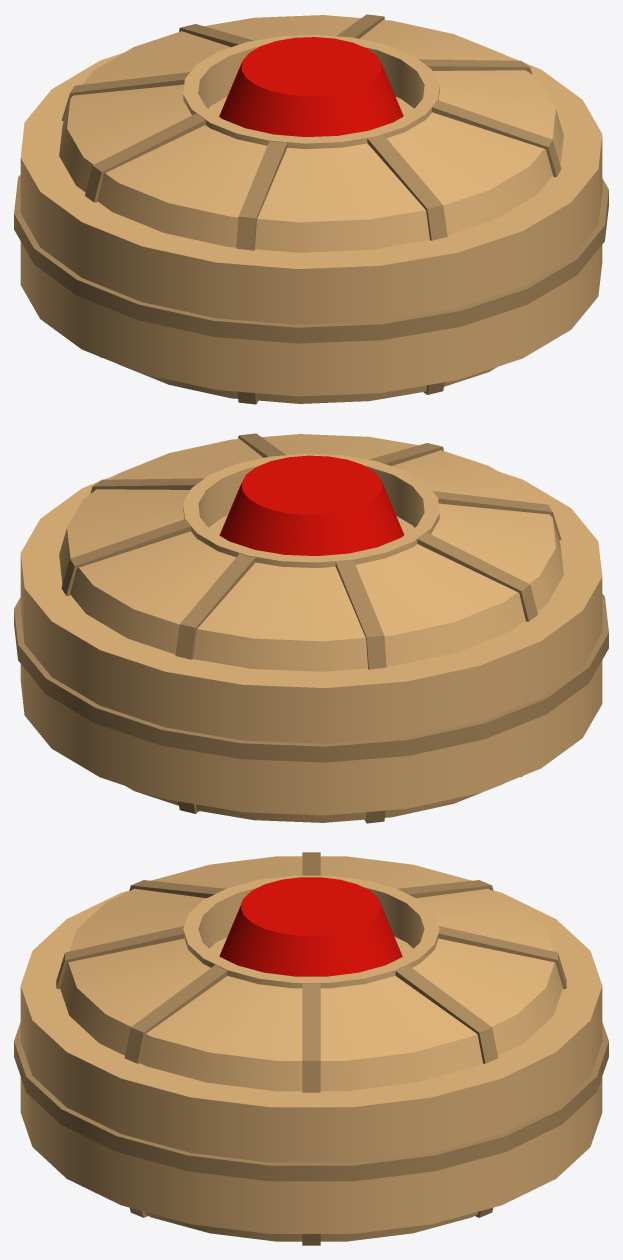
File: mine2-food.fbx
The picture shows the model from 3 angles, top to bottom: view 1: azimuth 30°, elevation 25°; view 2: azimuth 150°, elevation 25°; view 3: azimuth 270°, elevation 25°; orthographic projection.
Visible parts, largest first — view 1: mine2-food; view 2: mine2-food; view 3: mine2-food.
Part boxes in pixels (<box>): mine2-food: <box>14,14,608,404</box>; mine2-food: <box>14,433,608,823</box>; mine2-food: <box>14,852,608,1245</box>.
Size of the model in its own units: 0.2431 by 0.107 by 0.2456.
